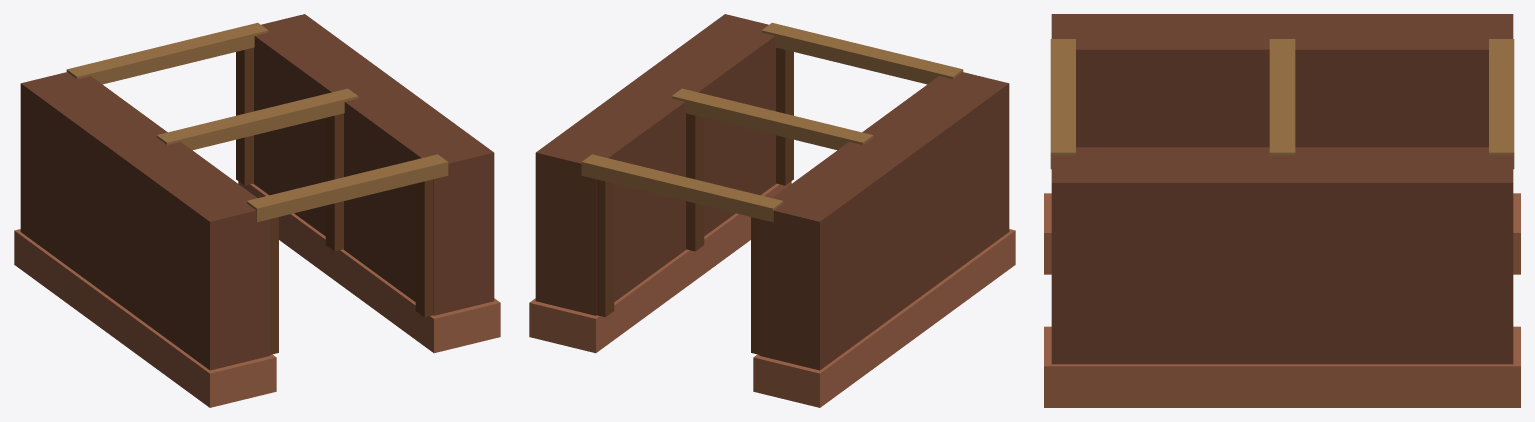
The model's file is Desert_MinePassage_Simple.glb.
3 views of the same model, side by side, from view 1: azimuth 30°, elevation 25°; view 2: azimuth 150°, elevation 25°; view 3: azimuth 270°, elevation 25° (orthographic). The views are drawn at different scales.
Visible parts, largest first — view 1: Desert_MinePassage_Simple; view 2: Desert_MinePassage_Simple; view 3: Desert_MinePassage_Simple.
Part boxes in pixels (x1,y1,x2,y2): Desert_MinePassage_Simple: (14, 14, 500, 407); Desert_MinePassage_Simple: (529, 14, 1015, 407); Desert_MinePassage_Simple: (1044, 14, 1520, 407).
Bounding box in the file's own units: 5.32 × 3.24 × 6.2.
